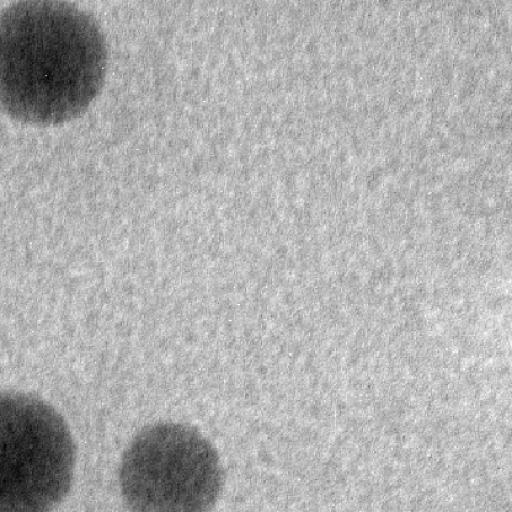Nanoparticles: (0, 1, 107, 128), (116, 420, 224, 512), (0, 389, 75, 512)
